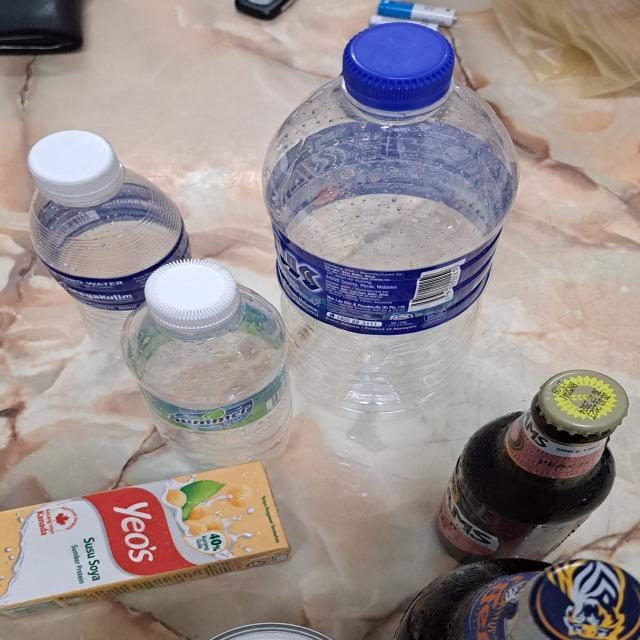drink carton: (0, 464, 293, 609)
glass bottle: (433, 372, 634, 566), (395, 561, 640, 640)
plastic bottle: (272, 80, 517, 412), (109, 293, 294, 478), (30, 176, 194, 369)
plastic bottle cap: (340, 23, 455, 112), (144, 258, 243, 337), (28, 132, 118, 205)
